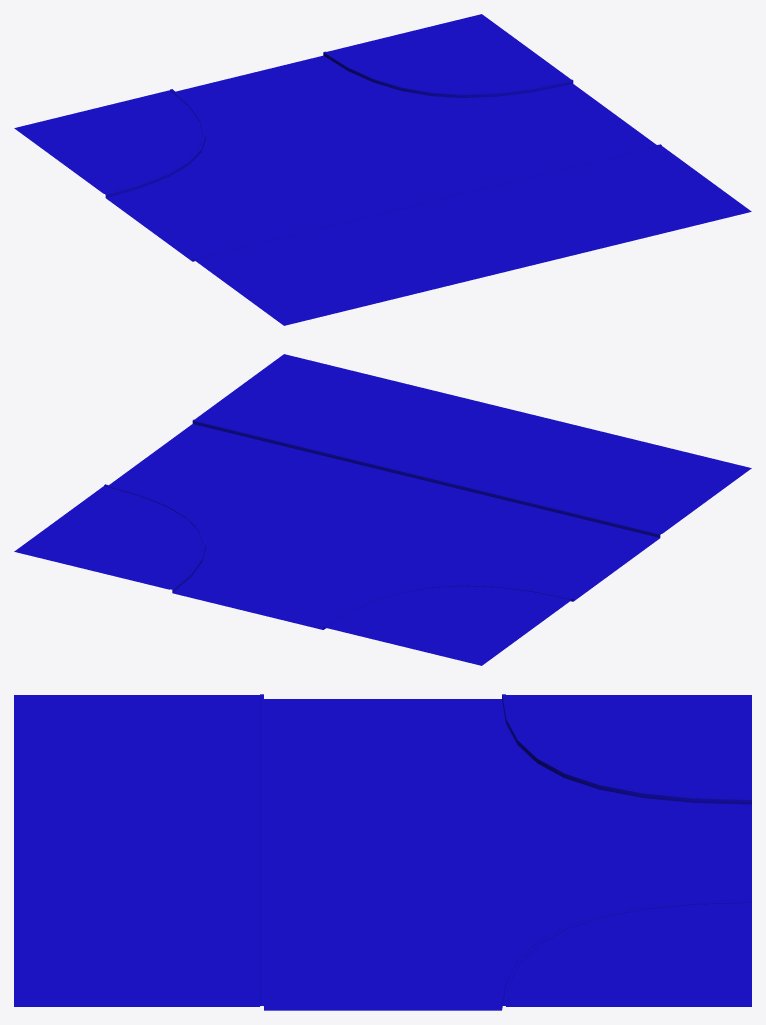
3 renders of one model, top to bottom at view 1: azimuth 30°, elevation 25°; view 2: azimuth 150°, elevation 25°; view 3: azimuth 270°, elevation 25°, orthographic. The views are drawn at different scales.
Parts seen in each view (by area): view 1: R_02; view 2: R_02; view 3: R_02.
Part boxes in pixels (<box>): R_02: <box>14,14,751,325</box>; R_02: <box>14,354,751,665</box>; R_02: <box>14,694,751,1010</box>.
Size of the model in its own units: 3000 by 21.14 by 3000.
